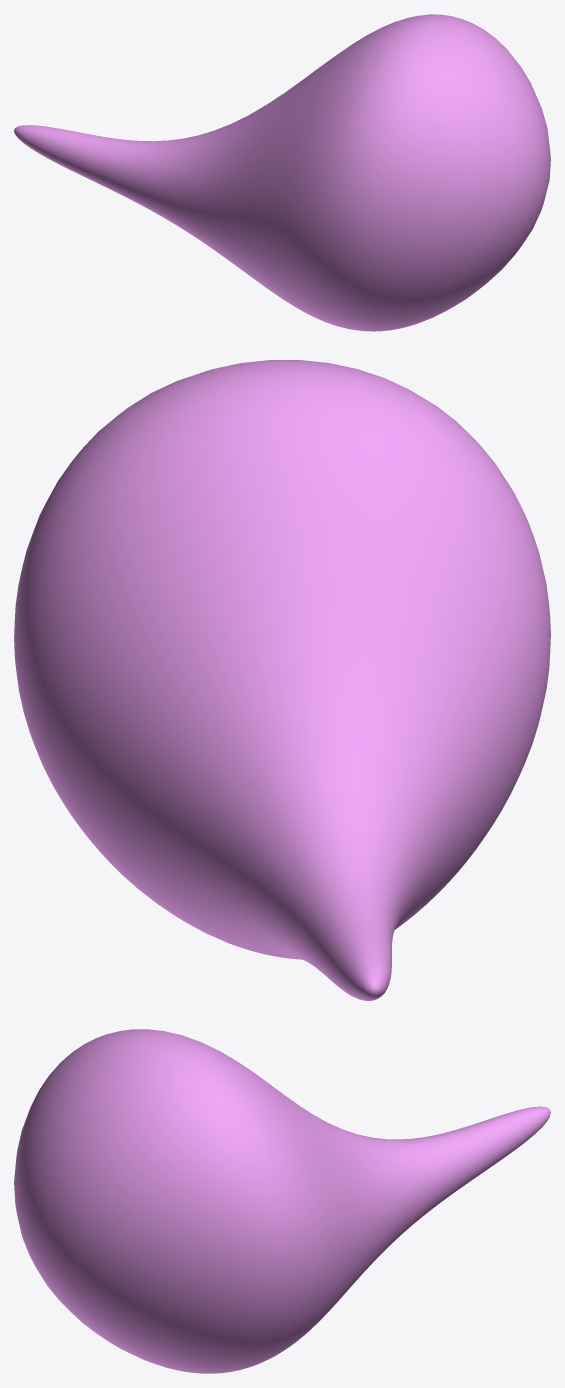
Rendered from Bubblegum.gltf.
3 views of the same model, one above another, from view 1: azimuth 30°, elevation 25°; view 2: azimuth 150°, elevation 25°; view 3: azimuth 270°, elevation 25° (orthographic). The views are drawn at different scales.
Parts seen in each view (by area): view 1: mouth6; view 2: mouth6; view 3: mouth6.
Part boxes in pixels (bbox=[...]): mouth6: bbox=[14, 14, 550, 331]; mouth6: bbox=[14, 360, 550, 1000]; mouth6: bbox=[14, 1029, 550, 1373].
Size of the model in its own units: 2.45 by 2 by 2.92.
